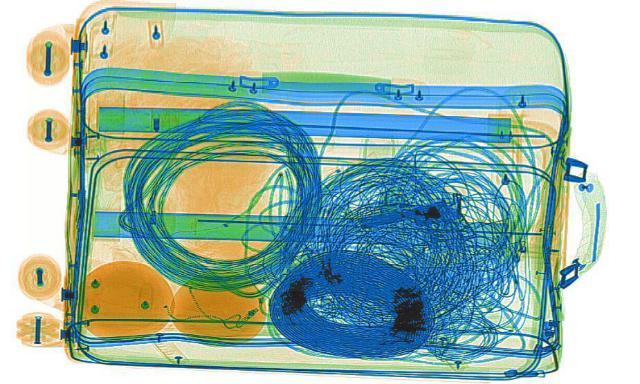Gun: (348, 196, 476, 236)
